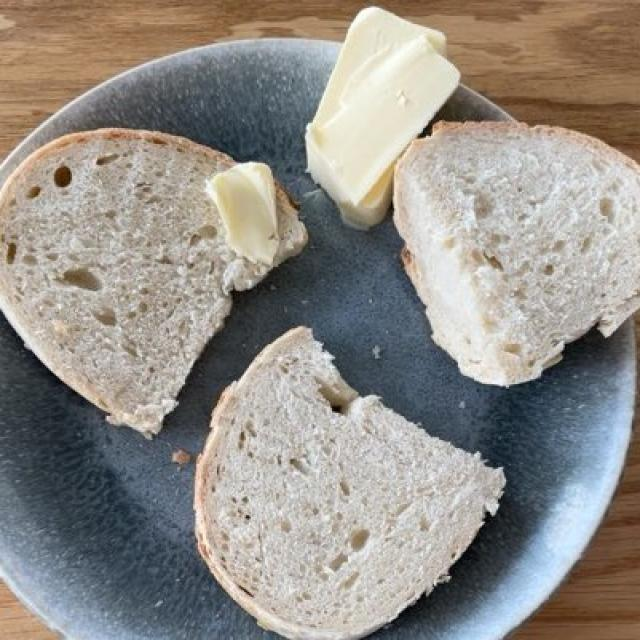bread: (4, 124, 639, 631)
butter: (307, 9, 459, 209)
